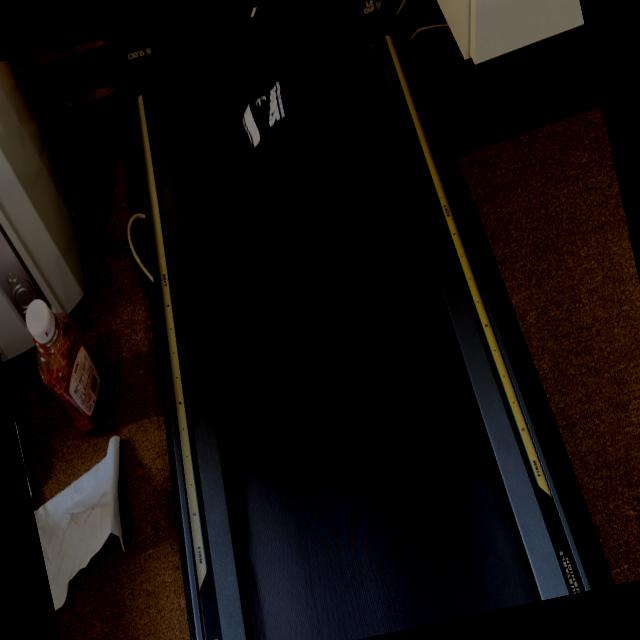Trash: (230, 66, 354, 252)
